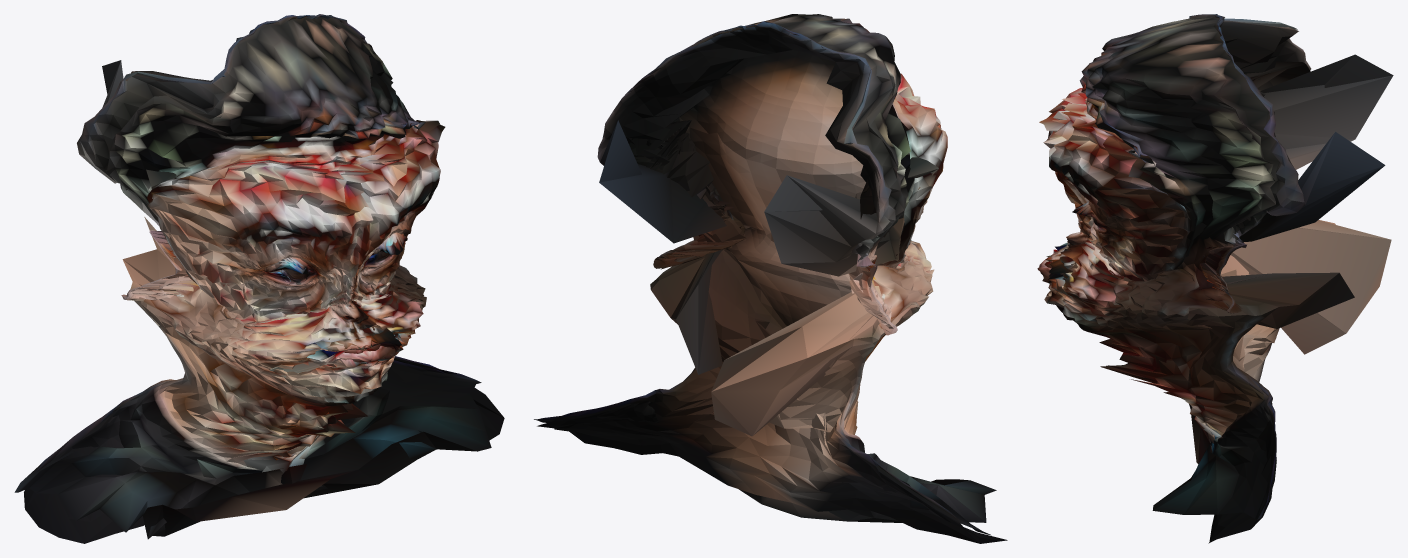
File: chibi_textured_mesh.obj
The picture shows the model from 3 angles, left to right: view 1: azimuth 30°, elevation 25°; view 2: azimuth 150°, elevation 25°; view 3: azimuth 270°, elevation 25°; orthographic projection. The views are drawn at different scales.
Bounding box in the file's own units: 0.3661 × 0.3668 × 0.2651.
